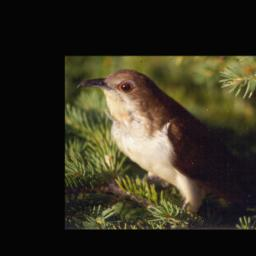Cuckoo: (76, 68, 256, 216)
